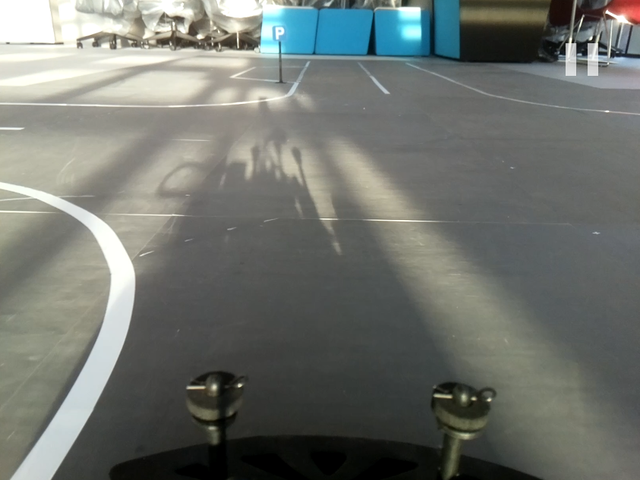parking: (272, 25, 287, 42)
